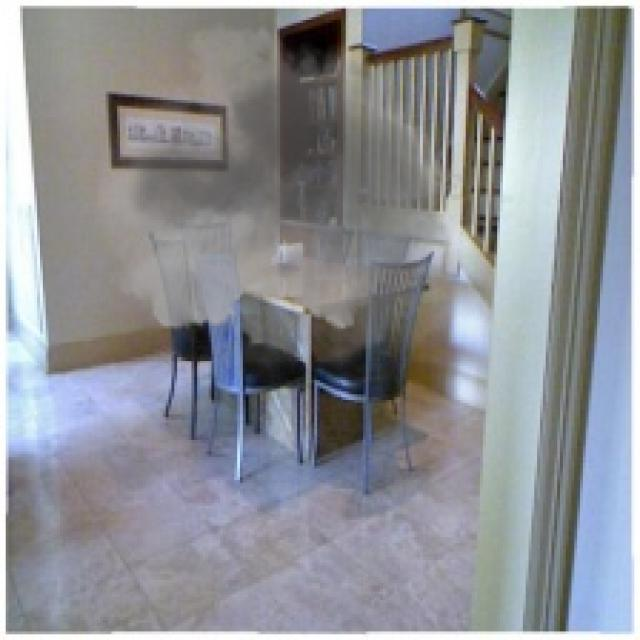smoke: (94, 6, 477, 411)
